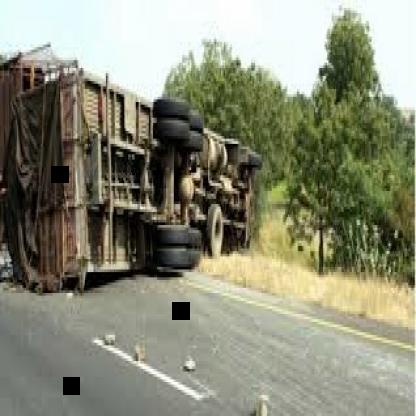accident: (5, 54, 259, 294)
